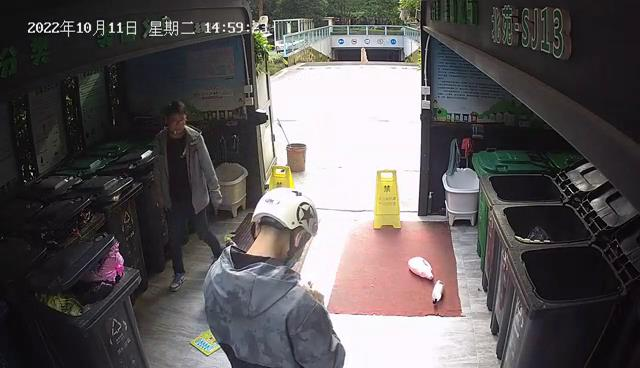person: (200, 186, 347, 368), (150, 99, 224, 294)
suliaozhipin: (406, 255, 434, 281), (430, 279, 445, 305)
zhizhipin: (189, 329, 221, 358)
